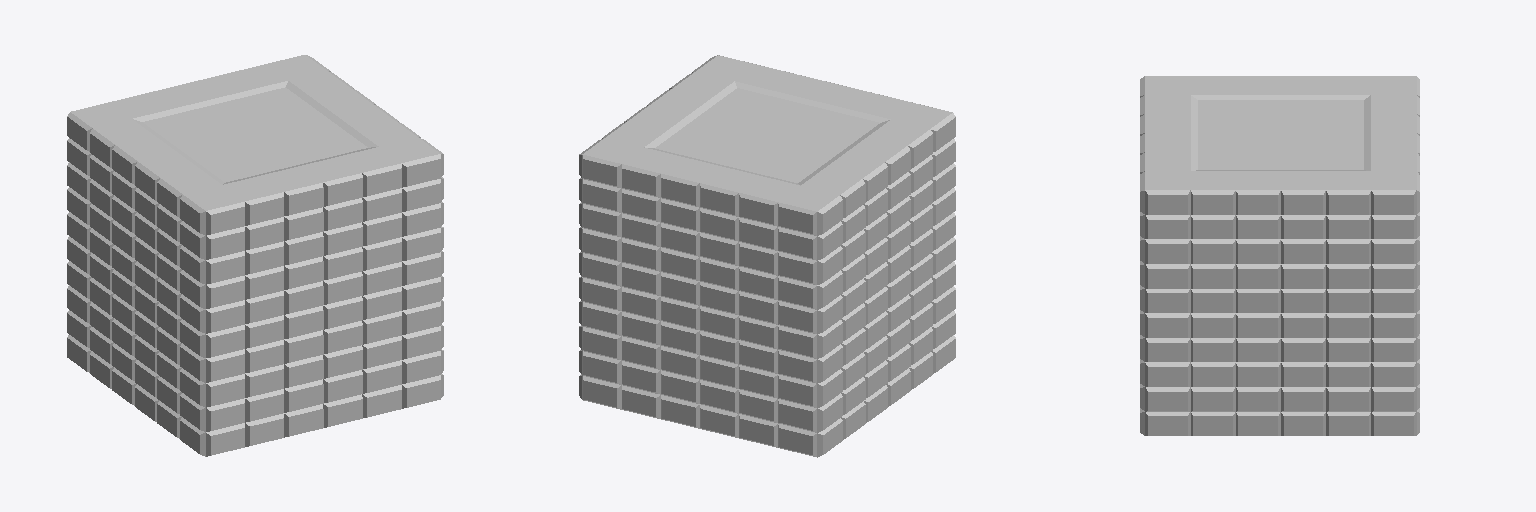
Rendered from stone_wall_flat.obj.
3 renders of one model, left to right at view 1: azimuth 30°, elevation 25°; view 2: azimuth 150°, elevation 25°; view 3: azimuth 270°, elevation 25°, orthographic.
Parts seen in each view (by area): view 1: Cube; view 2: Cube; view 3: Cube.
Part boxes in pixels (x1,y1,x2,y2): Cube: (67,55,443,456); Cube: (579,55,955,457); Cube: (1140,76,1419,435).
Size of the model in its own units: 1.97 by 1.9 by 1.96.